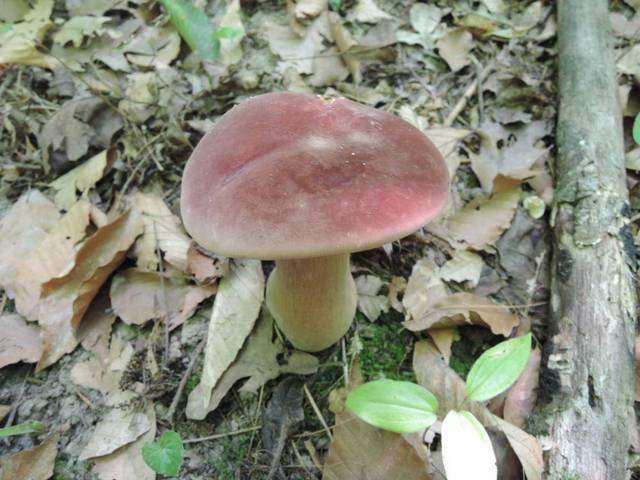poisonous_mushroom: (178, 89, 451, 353)
